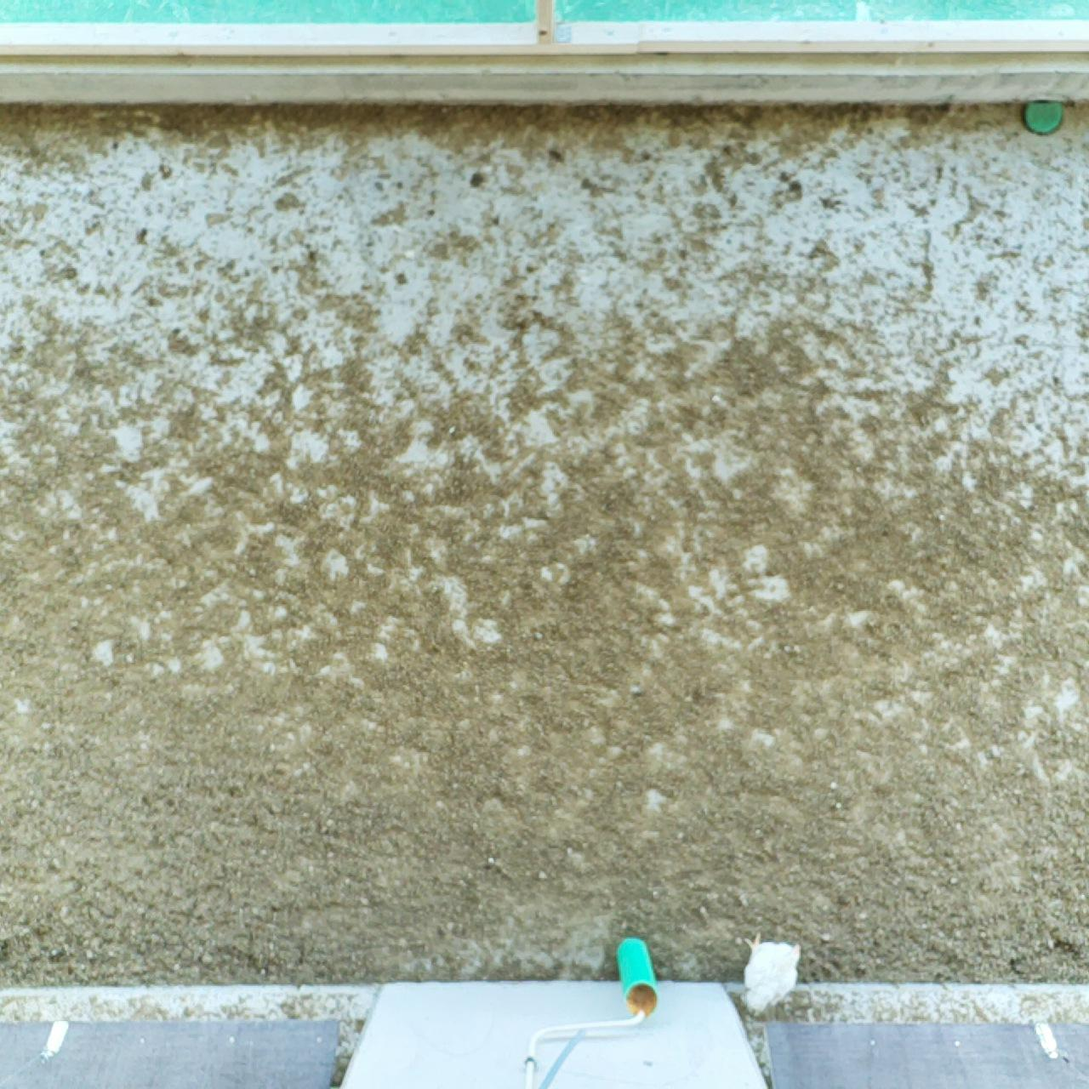chicken: (739, 926, 805, 1017)
